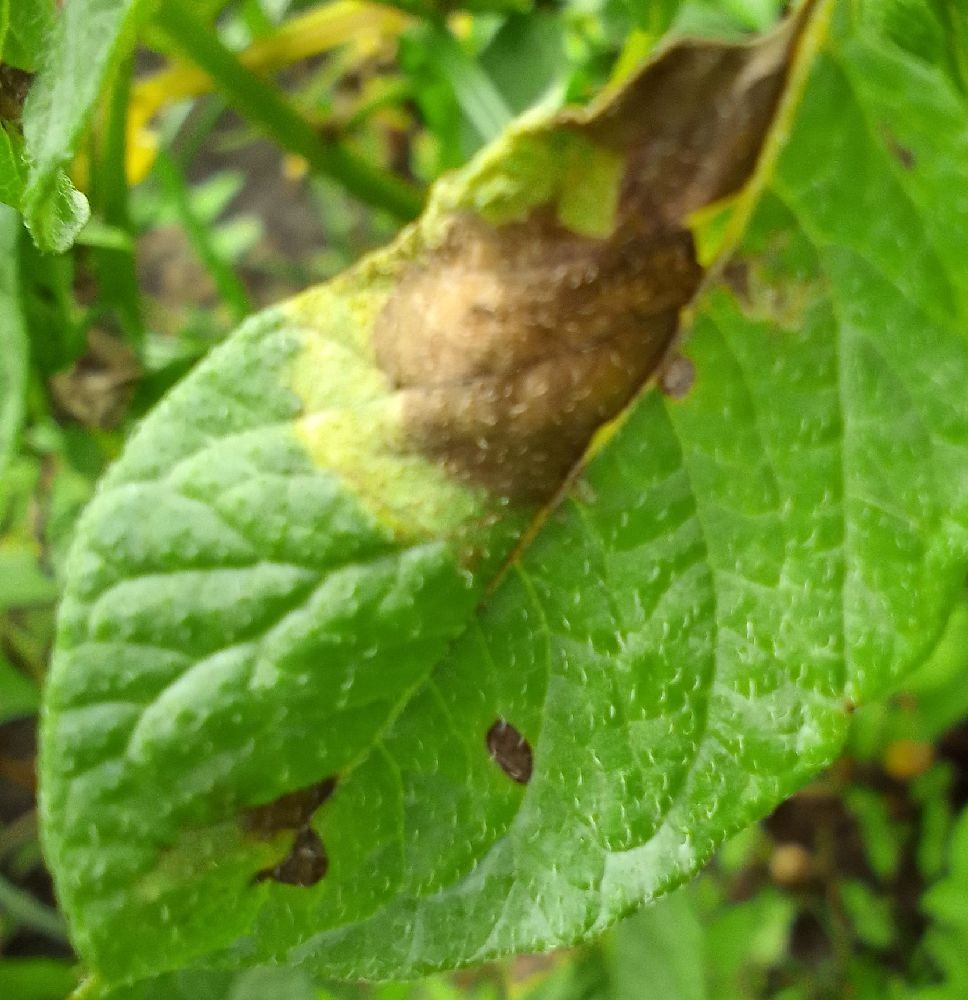late_blight: (320, 0, 840, 542), (667, 692, 968, 1000), (144, 66, 402, 335), (0, 686, 106, 990)
